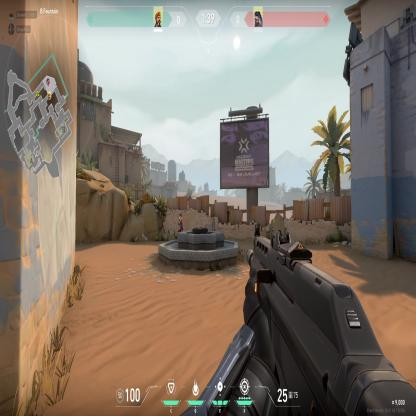enemy: (177, 214, 184, 232)
